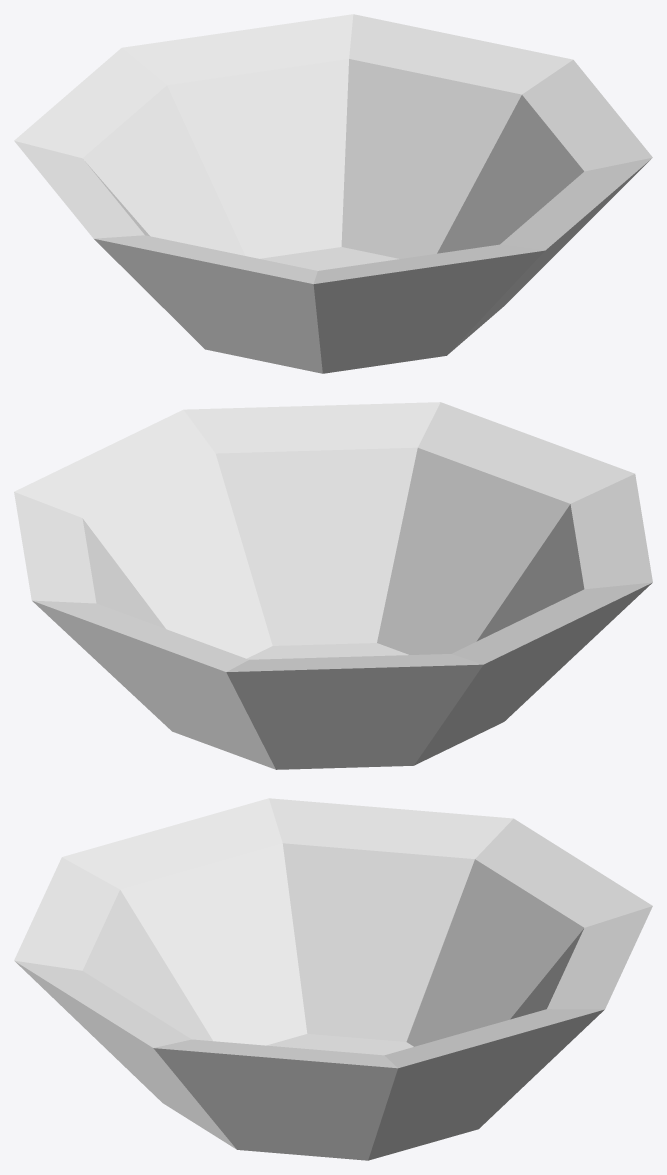
File: KITCHEN INVENTORY 11.fbx
The picture shows the model from 3 angles, top to bottom: view 1: azimuth 30°, elevation 25°; view 2: azimuth 150°, elevation 25°; view 3: azimuth 270°, elevation 25°; orthographic projection. The views are drawn at different scales.
Parts seen in each view (by area): view 1: KITCHEN_INVENTORY_11; view 2: KITCHEN_INVENTORY_11; view 3: KITCHEN_INVENTORY_11.
Boxes of the visible parts, <box> form: KITCHEN_INVENTORY_11: <box>14,14,652,373</box>; KITCHEN_INVENTORY_11: <box>14,402,652,769</box>; KITCHEN_INVENTORY_11: <box>14,798,652,1160</box>.
Bounding box in the file's own units: 22.58 × 6.05 × 22.58.
1 material, 1 textured.
